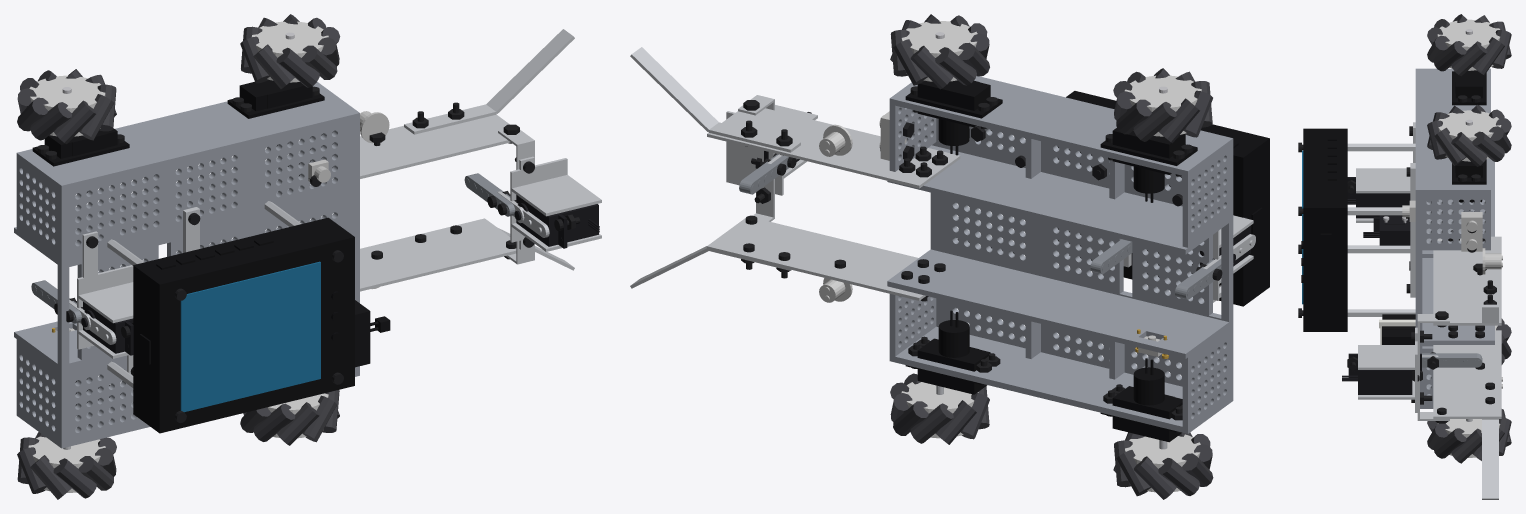
File: robot_a.obj
3 views of the same model, side by side, from view 1: azimuth 30°, elevation 25°; view 2: azimuth 150°, elevation 25°; view 3: azimuth 270°, elevation 25° (orthographic). The views are drawn at different scales.
Parts seen in each view (by area): view 1: 01.1|Printed_chassis_(print_1), 07.3|Wombat, 07.3|Wombat_(screen), 04.4|Plate_4_x_12, 04.1|Plate_4_x_12, 05.9|Servo_Bracket.004, 05.9|Servo, 03.1|Mecanum_Wheel.001, 03.1|Mecanum_Wheel.003, 04.7|Strap_1_x_10.001, 02.1|Black_Gear_Motor, 05.1|Servo_Bracket.004 (+25 smaller); view 2: 01.1|Printed_chassis_(print_1), 04.4|Plate_4_x_12, 07.3|Wombat, 04.1|Plate_4_x_12, 02.4|Black_Gear_Motor, 02.4|Black_Gear_Motor.002, 02.1|Black_Gear_Motor, 02.4|Black_Gear_Motor.001, 03.1|Mecanum_Wheel.003, 03.1|Mecanum_Wheel.001, 04.7|Strap_1_x_10.001, 03.1|Mecanum_Wheel.002 (+19 smaller); view 3: 01.1|Printed_chassis_(print_1), 07.3|Wombat, 04.4|Plate_4_x_12, 04.1|Plate_4_x_12, 05.9|Servo, 05.9|Servo_Bracket.004, 05.1|Servo_Bracket.004, 04.8|Strap_1_x_10.001, 03.1|Mecanum_Wheel.001, 03.1|Mecanum_Wheel.003, 05.5|Micro_Servo, 05.1|Servo (+34 smaller).
Part boxes in pixels (<box>): 01.1|Printed_chassis_(print_1): <box>14,82,359,448</box>; 07.3|Wombat: <box>133,217,354,433</box>; 07.3|Wombat_(screen): <box>180,261,320,412</box>; 04.4|Plate_4_x_12: <box>360,218,516,291</box>; 04.1|Plate_4_x_12: <box>276,114,510,184</box>; 05.9|Servo_Bracket.004: <box>510,175,601,216</box>; 05.9|Servo: <box>514,195,599,248</box>; 03.1|Mecanum_Wheel.001: <box>252,21,328,82</box>; 03.1|Mecanum_Wheel.003: <box>29,75,105,136</box>; 04.7|Strap_1_x_10.001: <box>486,29,574,113</box>; 02.1|Black_Gear_Motor: <box>239,80,312,146</box>; 05.1|Servo_Bracket.004: <box>77,282,133,323</box>; 01.1|Printed_chassis_(print_1): <box>887,76,1233,433</box>; 04.4|Plate_4_x_12: <box>707,218,925,300</box>; 07.3|Wombat: <box>1057,91,1269,306</box>; 04.1|Plate_4_x_12: <box>707,108,960,188</box>; 02.4|Black_Gear_Motor: <box>917,310,990,394</box>; 02.4|Black_Gear_Motor.002: <box>1112,358,1182,442</box>; 02.1|Black_Gear_Motor: <box>917,80,990,155</box>; 02.4|Black_Gear_Motor.001: <box>1112,128,1185,202</box>; 03.1|Mecanum_Wheel.003: <box>1124,75,1201,136</box>; 03.1|Mecanum_Wheel.001: <box>901,21,977,81</box>; 04.7|Strap_1_x_10.001: <box>630,47,718,131</box>; 03.1|Mecanum_Wheel.002: <box>1125,434,1200,492</box>; 01.1|Printed_chassis_(print_1): <box>1415,68,1494,408</box>; 07.3|Wombat: <box>1301,128,1347,331</box>; 04.4|Plate_4_x_12: <box>1433,330,1501,418</box>; 04.1|Plate_4_x_12: <box>1433,236,1501,325</box>; 05.9|Servo: <box>1342,353,1421,394</box>; 05.9|Servo_Bracket.004: <box>1358,345,1417,369</box>; 05.1|Servo_Bracket.004: <box>1356,168,1410,193</box>; 04.8|Strap_1_x_10.001: <box>1482,419,1498,499</box>; 03.1|Mecanum_Wheel.001: <box>1438,110,1501,161</box>; 03.1|Mecanum_Wheel.003: <box>1437,19,1500,70</box>; 05.5|Micro_Servo: <box>1363,215,1410,245</box>; 05.1|Servo: <box>1347,177,1410,218</box>.
Size of the model in its own units: 400 by 271 by 159.
